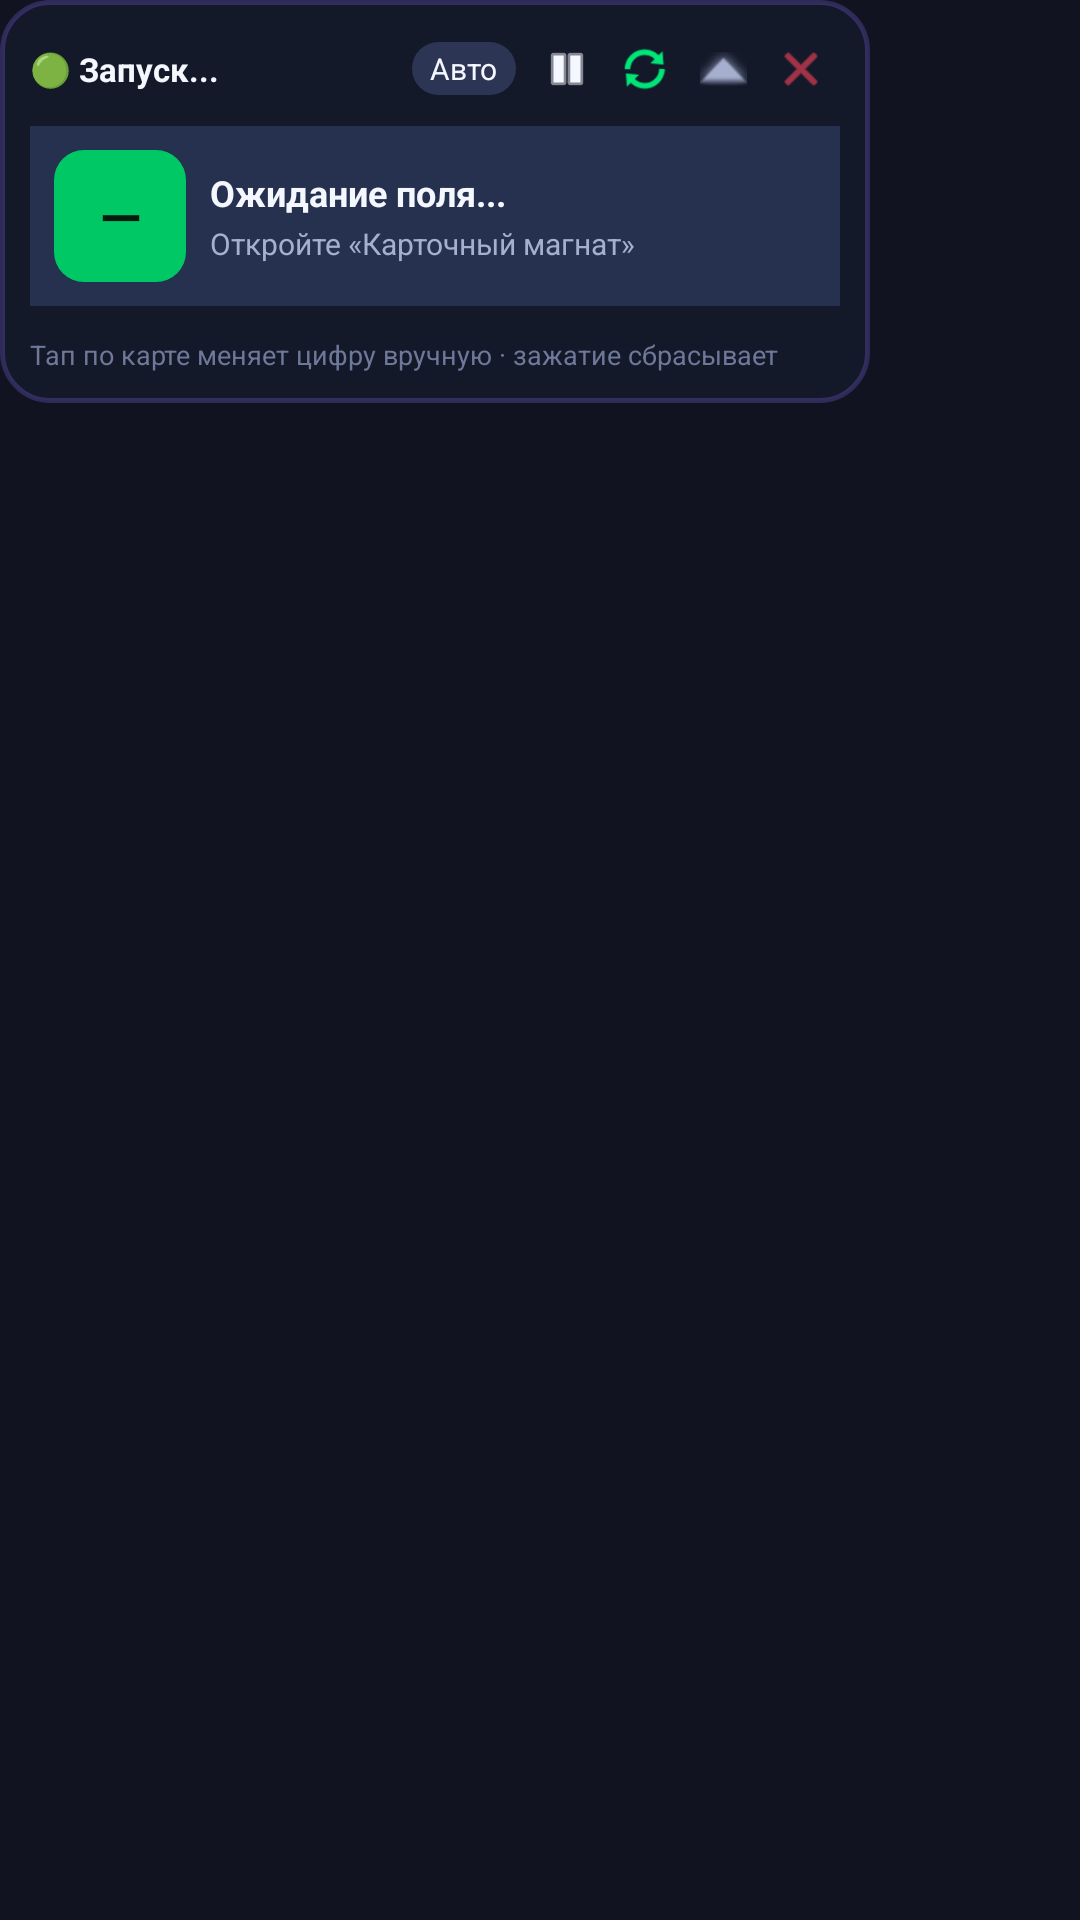

Icons on this 1080px x 1920px Android screen, each with its box as [x1=x1, y1=y1, x2=x2, y2=y2]:
Закрыть: [x1=784, y1=52, x2=818, y2=86]
Обновить: [x1=624, y1=49, x2=666, y2=89]
Пауза: [x1=551, y1=53, x2=583, y2=85]
Свернуть: [x1=700, y1=55, x2=747, y2=85]
